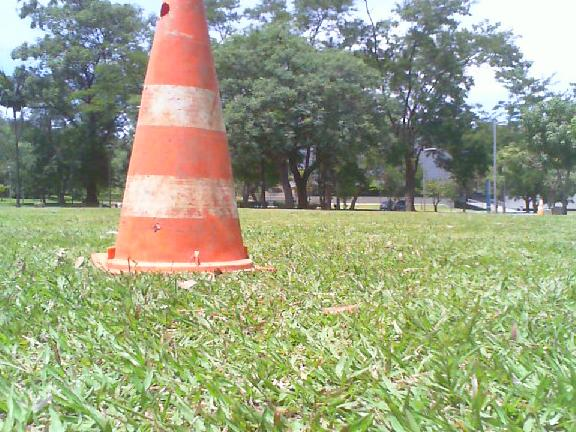0 cone: (83, 0, 279, 275)
